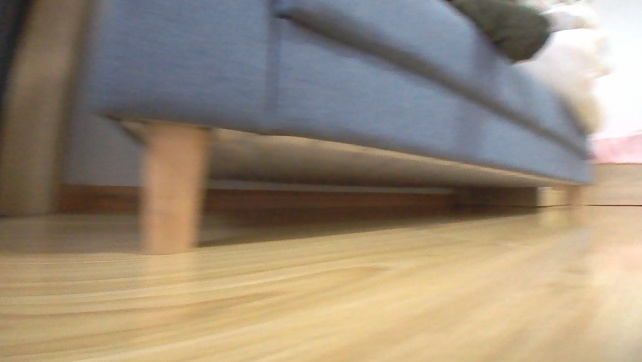sofa1: (87, 0, 599, 251)
